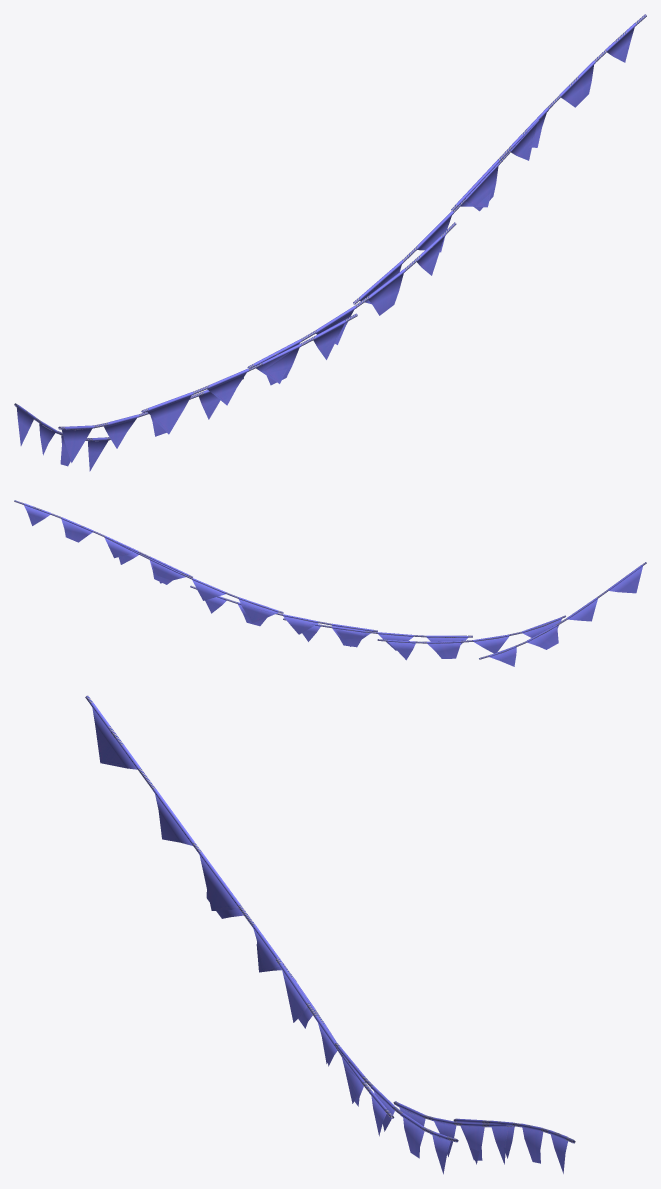
Rendered from SM_rope_flags_01_Splines_0.fbx.
3 renders of one model, top to bottom at view 1: azimuth 30°, elevation 25°; view 2: azimuth 150°, elevation 25°; view 3: azimuth 270°, elevation 25°, orthographic. The views are drawn at different scales.
Parts seen in each view (by area): view 1: SM_rope_flags_01_Splines_0_LOD0; view 2: SM_rope_flags_01_Splines_0_LOD0; view 3: SM_rope_flags_01_Splines_0_LOD0.
Part boxes in pixels (x1,y1,x2,y2): SM_rope_flags_01_Splines_0_LOD0: (14,14,646,471); SM_rope_flags_01_Splines_0_LOD0: (14,500,646,666); SM_rope_flags_01_Splines_0_LOD0: (85,695,575,1174).
Bounding box in the file's own units: 1213 × 504 × 283.
